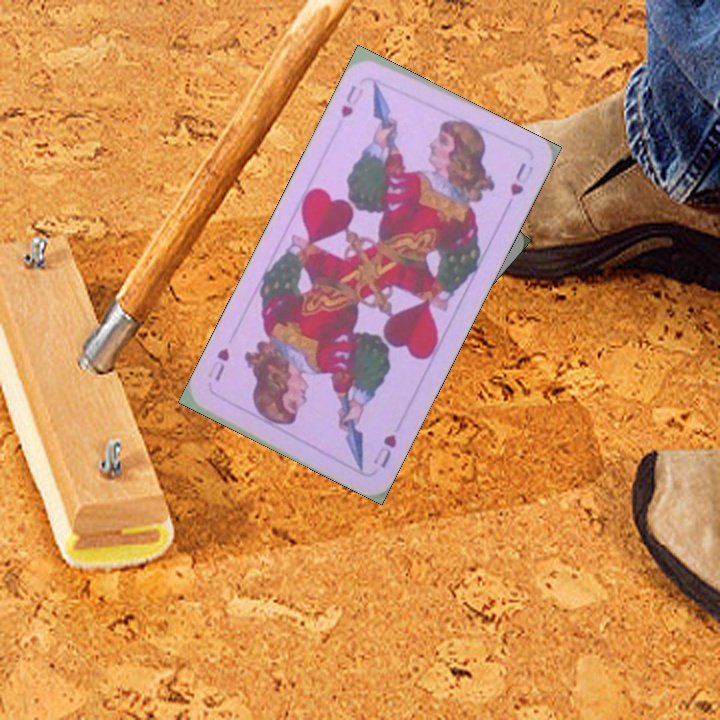HU: (368, 430, 399, 471), (336, 81, 359, 122)
